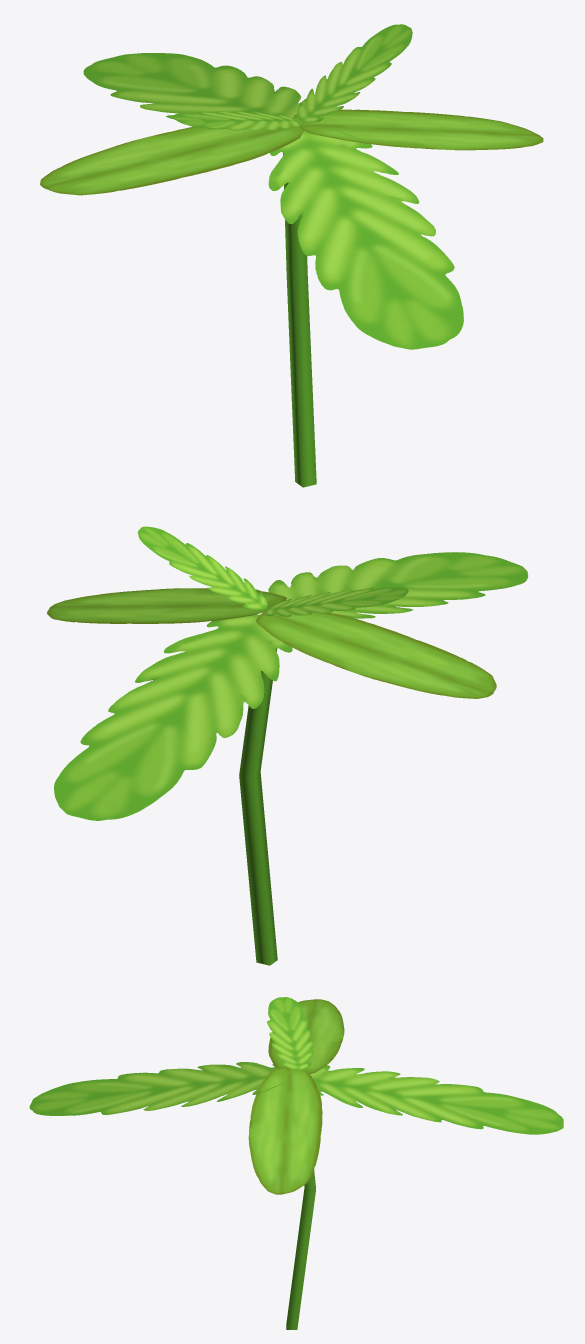
The model's file is CannabisStage01_02.fbx.
The picture shows the model from 3 angles, top to bottom: view 1: azimuth 30°, elevation 25°; view 2: azimuth 150°, elevation 25°; view 3: azimuth 270°, elevation 25°; orthographic projection. The views are drawn at different scales.
Visible parts, largest first — view 1: CannabisStage01_02_LOD0; view 2: CannabisStage01_02_LOD0; view 3: CannabisStage01_02_LOD0.
Part boxes in pixels (x1=…): CannabisStage01_02_LOD0: x1=40, y1=24, x2=543, y2=487; CannabisStage01_02_LOD0: x1=47, y1=526, x2=528, y2=965; CannabisStage01_02_LOD0: x1=29, y1=997, x2=563, y2=1329.
Size of what is drawn, in the model's own units: 21.24 by 17.32 by 29.3.
